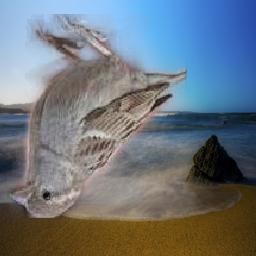Sparrow: (7, 14, 187, 218)
